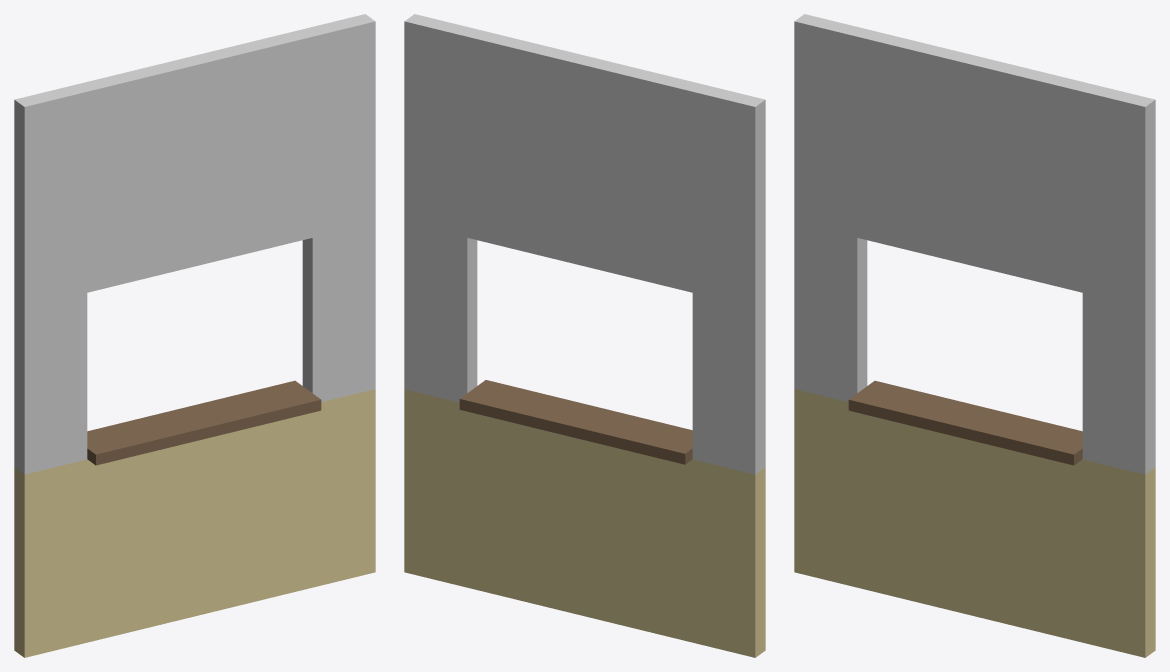
File: Mesh_Wall2Colors_G3.fbx
The picture shows the model from 3 angles, left to right: view 1: azimuth 30°, elevation 25°; view 2: azimuth 150°, elevation 25°; view 3: azimuth 330°, elevation 25°; orthographic projection.
Visible parts, largest first — view 1: Mesh_Wall2Colors_G3; view 2: Mesh_Wall2Colors_G3; view 3: Mesh_Wall2Colors_G3.
Boxes of the visible parts, x1=… form: Mesh_Wall2Colors_G3: x1=14, y1=14, x2=375, y2=657; Mesh_Wall2Colors_G3: x1=404, y1=14, x2=765, y2=657; Mesh_Wall2Colors_G3: x1=794, y1=14, x2=1155, y2=657.
Size of the model in its own units: 2 by 3 by 0.2574.
